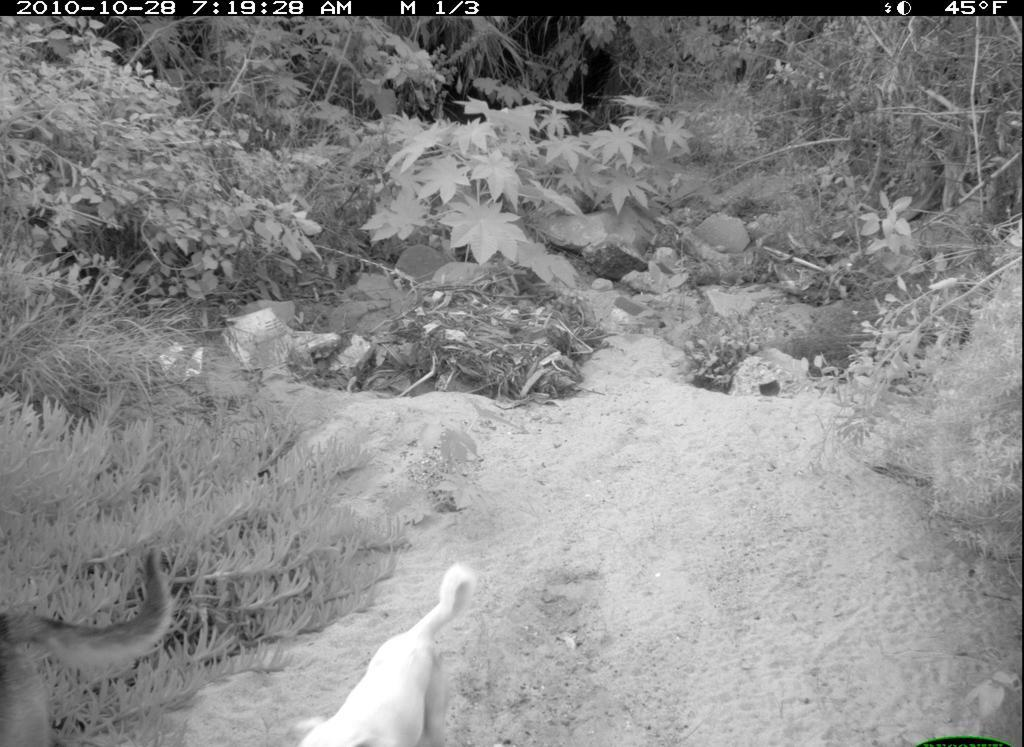dog: (277, 550, 496, 747), (1, 537, 185, 747)
